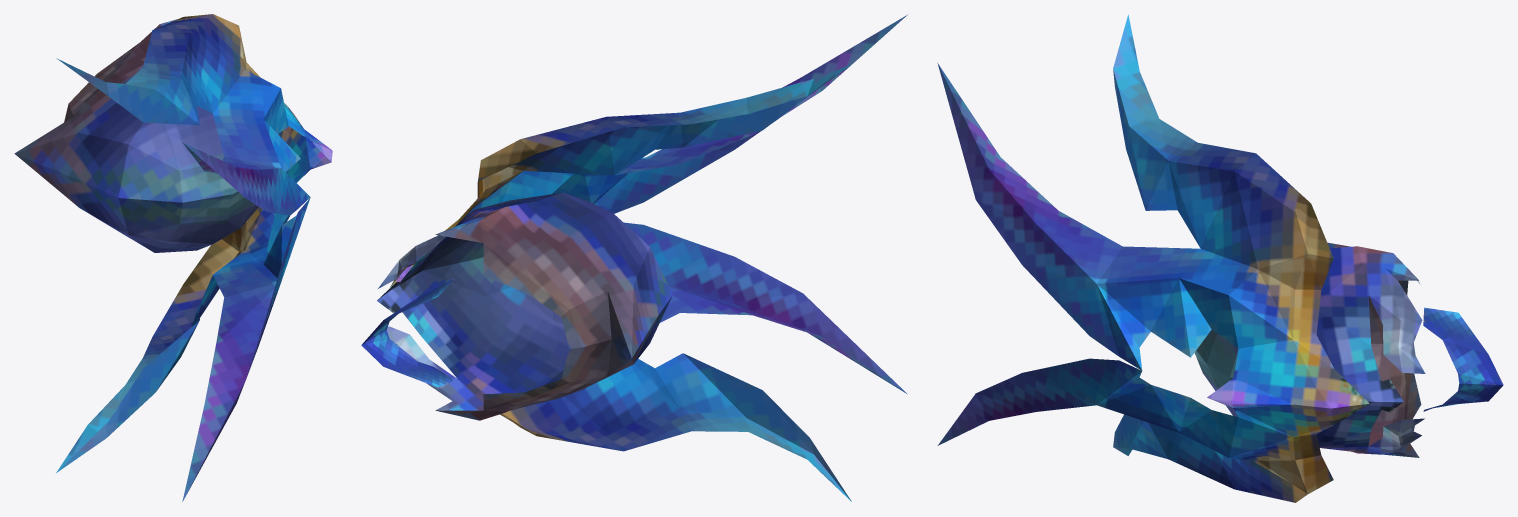
Rendered from common_helmet_67680.obj.
3 views of the same model, side by side, from view 1: azimuth 30°, elevation 25°; view 2: azimuth 150°, elevation 25°; view 3: azimuth 270°, elevation 25° (orthographic). The views are drawn at different scales.
Parts seen in each view (by area): view 1: common_helmet_87620; view 2: common_helmet_87620; view 3: common_helmet_87620.
Part boxes in pixels (x1,y1,x2,y2): common_helmet_87620: (14, 14, 332, 501); common_helmet_87620: (361, 14, 907, 501); common_helmet_87620: (937, 14, 1503, 502).
Size of the model in its own units: 9.75 by 11.6 by 13.47.
Materials: 1 (1 with a texture image).
